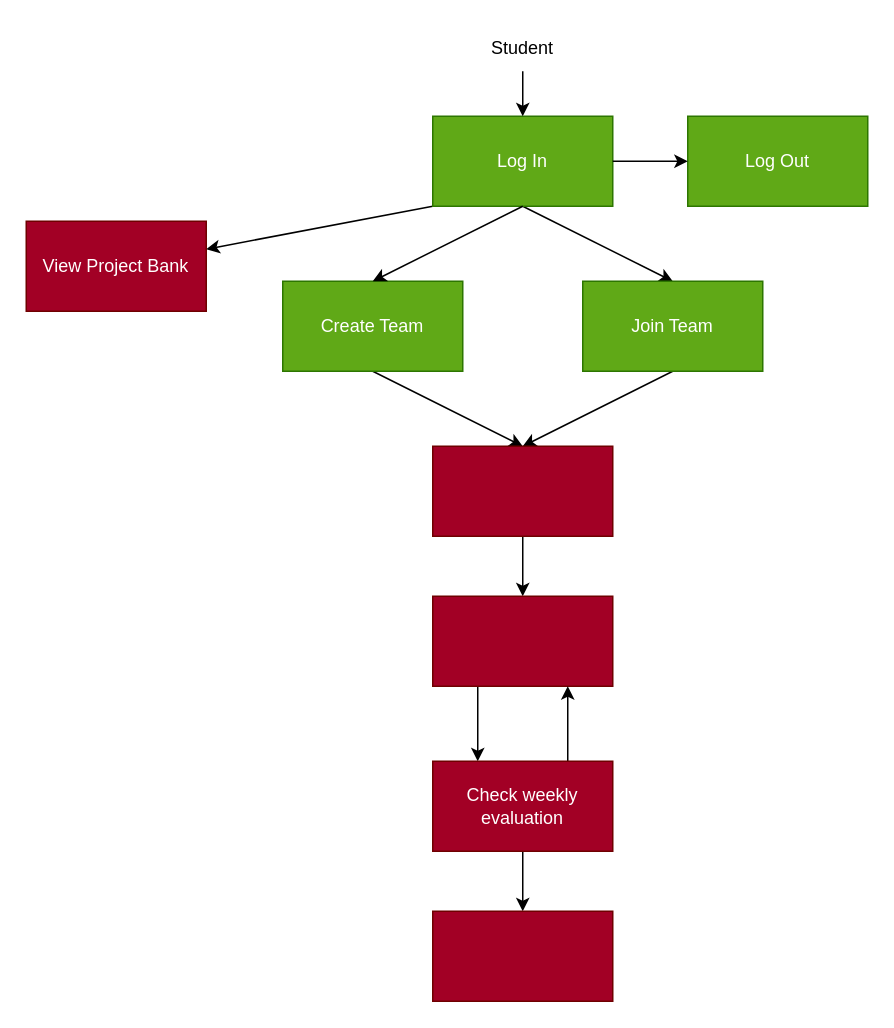
This 894x1028 diagram has some shape labels left out. Here are the shapes that lost their labels. From the top down, the centre of each, then its label:
the point at 522,490: Check Approval Status
the point at 522,640: Update work weekly
the point at 522,955: Final Submission
